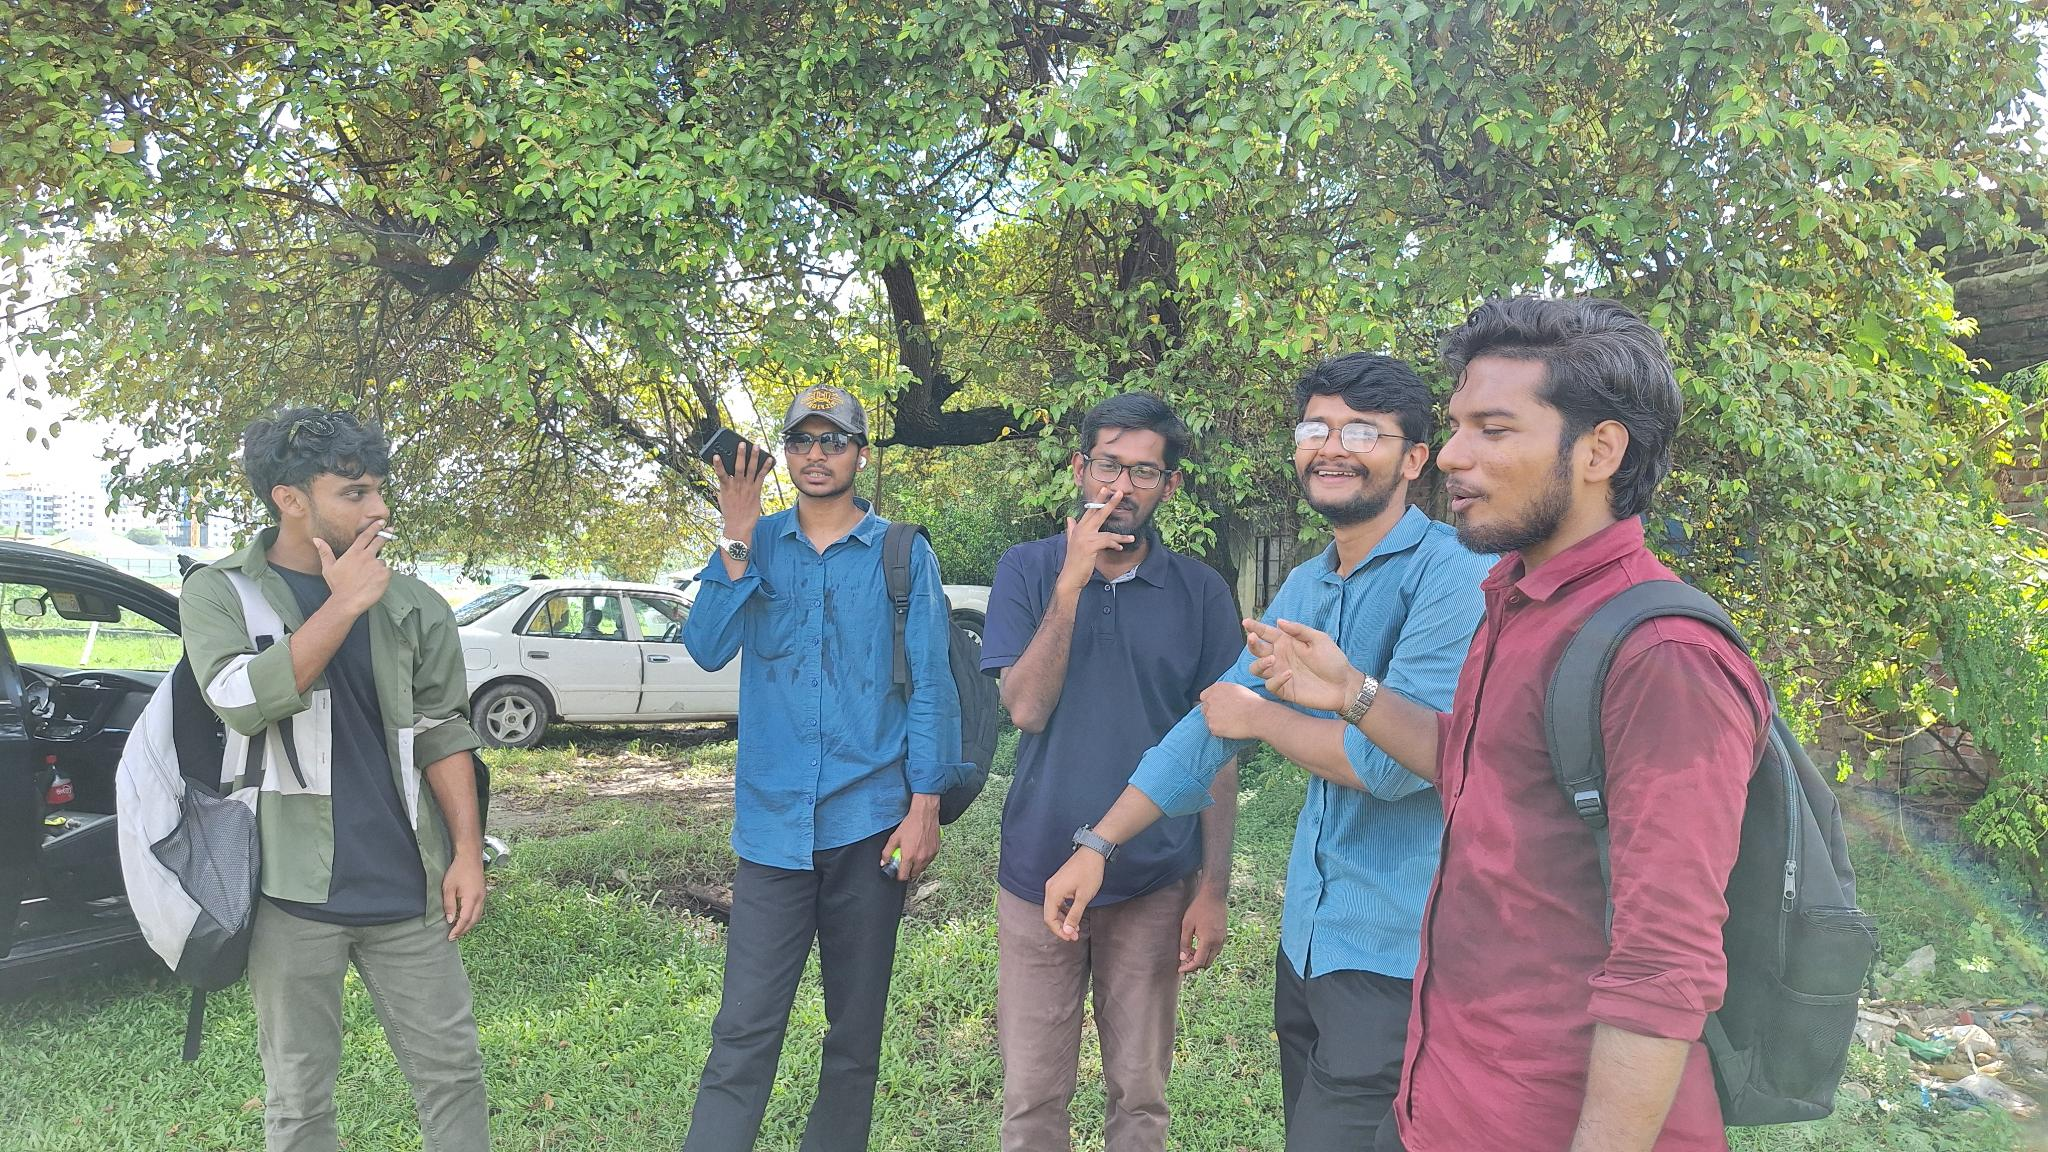cigarette: (376, 530, 401, 542), (1082, 501, 1107, 511)
nonSmoker: (1243, 298, 1876, 1152), (1044, 325, 1498, 1152), (658, 378, 1003, 1152)
smoker: (118, 408, 491, 1152), (980, 401, 1248, 1152)
